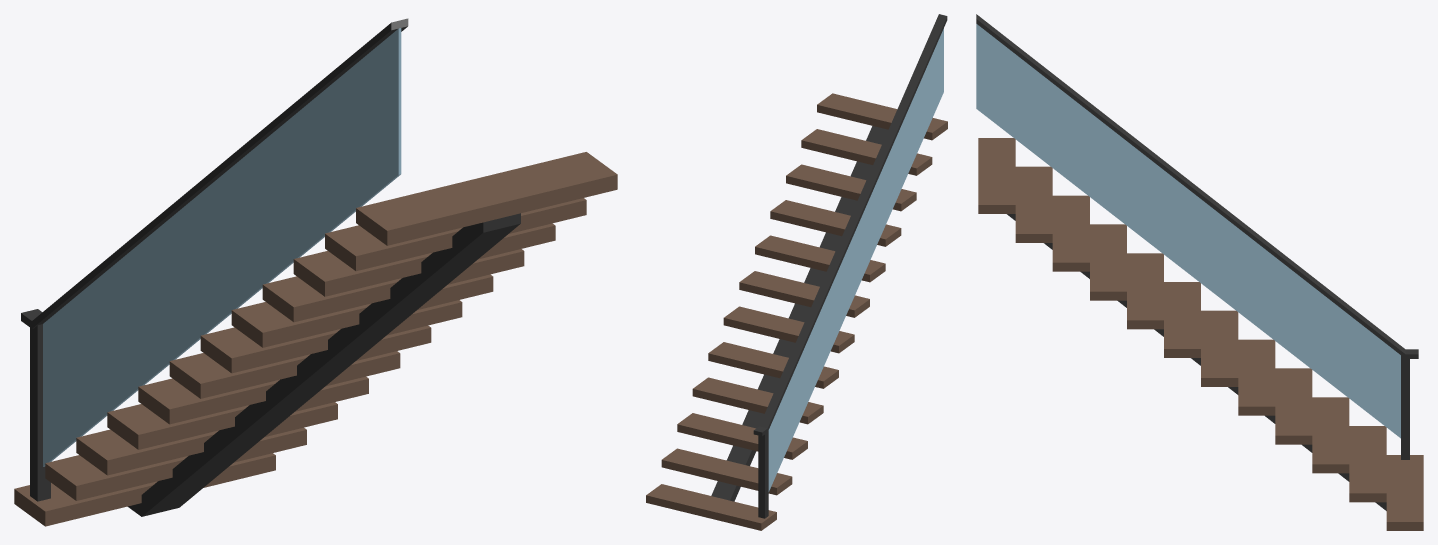
File: Stairs4_C4.fbx
The picture shows the model from 3 angles, left to right: view 1: azimuth 30°, elevation 25°; view 2: azimuth 150°, elevation 25°; view 3: azimuth 270°, elevation 25°; orthographic projection. The views are drawn at different scales.
Parts seen in each view (by area): view 1: Stairs4_C4; view 2: Stairs4_C4; view 3: Stairs4_C4.
Part boxes in pixels (x1=…): Stairs4_C4: x1=14, y1=18, x2=617, y2=526; Stairs4_C4: x1=646, y1=14, x2=947, y2=530; Stairs4_C4: x1=976, y1=14, x2=1423, y2=530.
Size of the model in its own units: 125 by 398 by 352.
